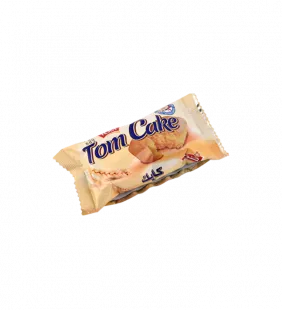TOM: (44, 84, 236, 220)
